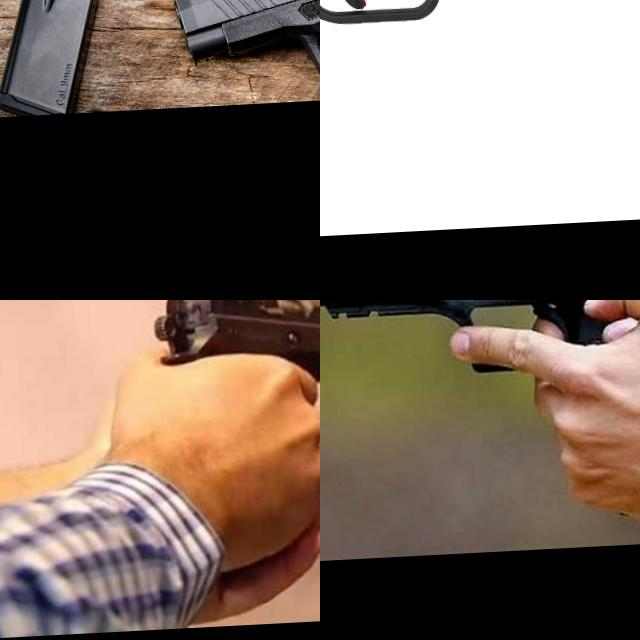handgun: (320, 0, 591, 184), (320, 300, 640, 400), (147, 300, 320, 395)
